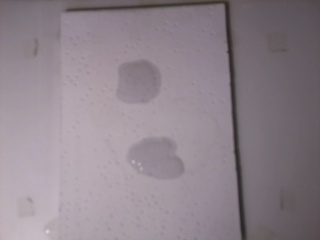Water_detected: (129, 68, 162, 94), (133, 150, 169, 173)
